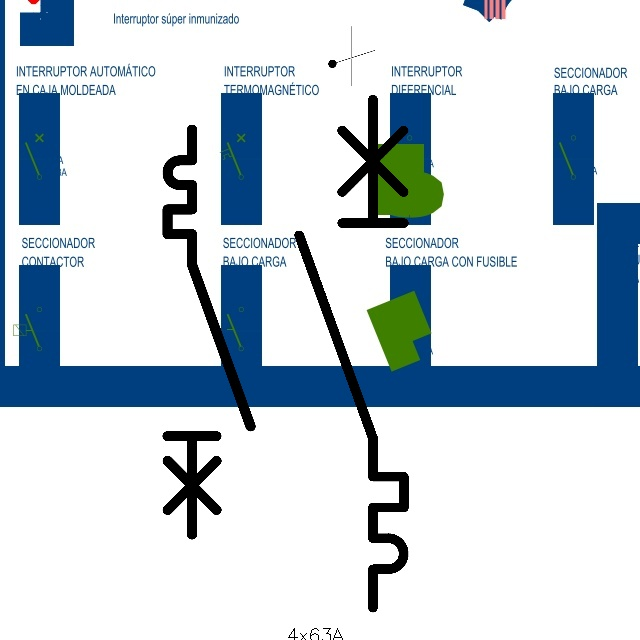interruptor_termomagnetico: (286, 86, 417, 621), (157, 119, 261, 545)
